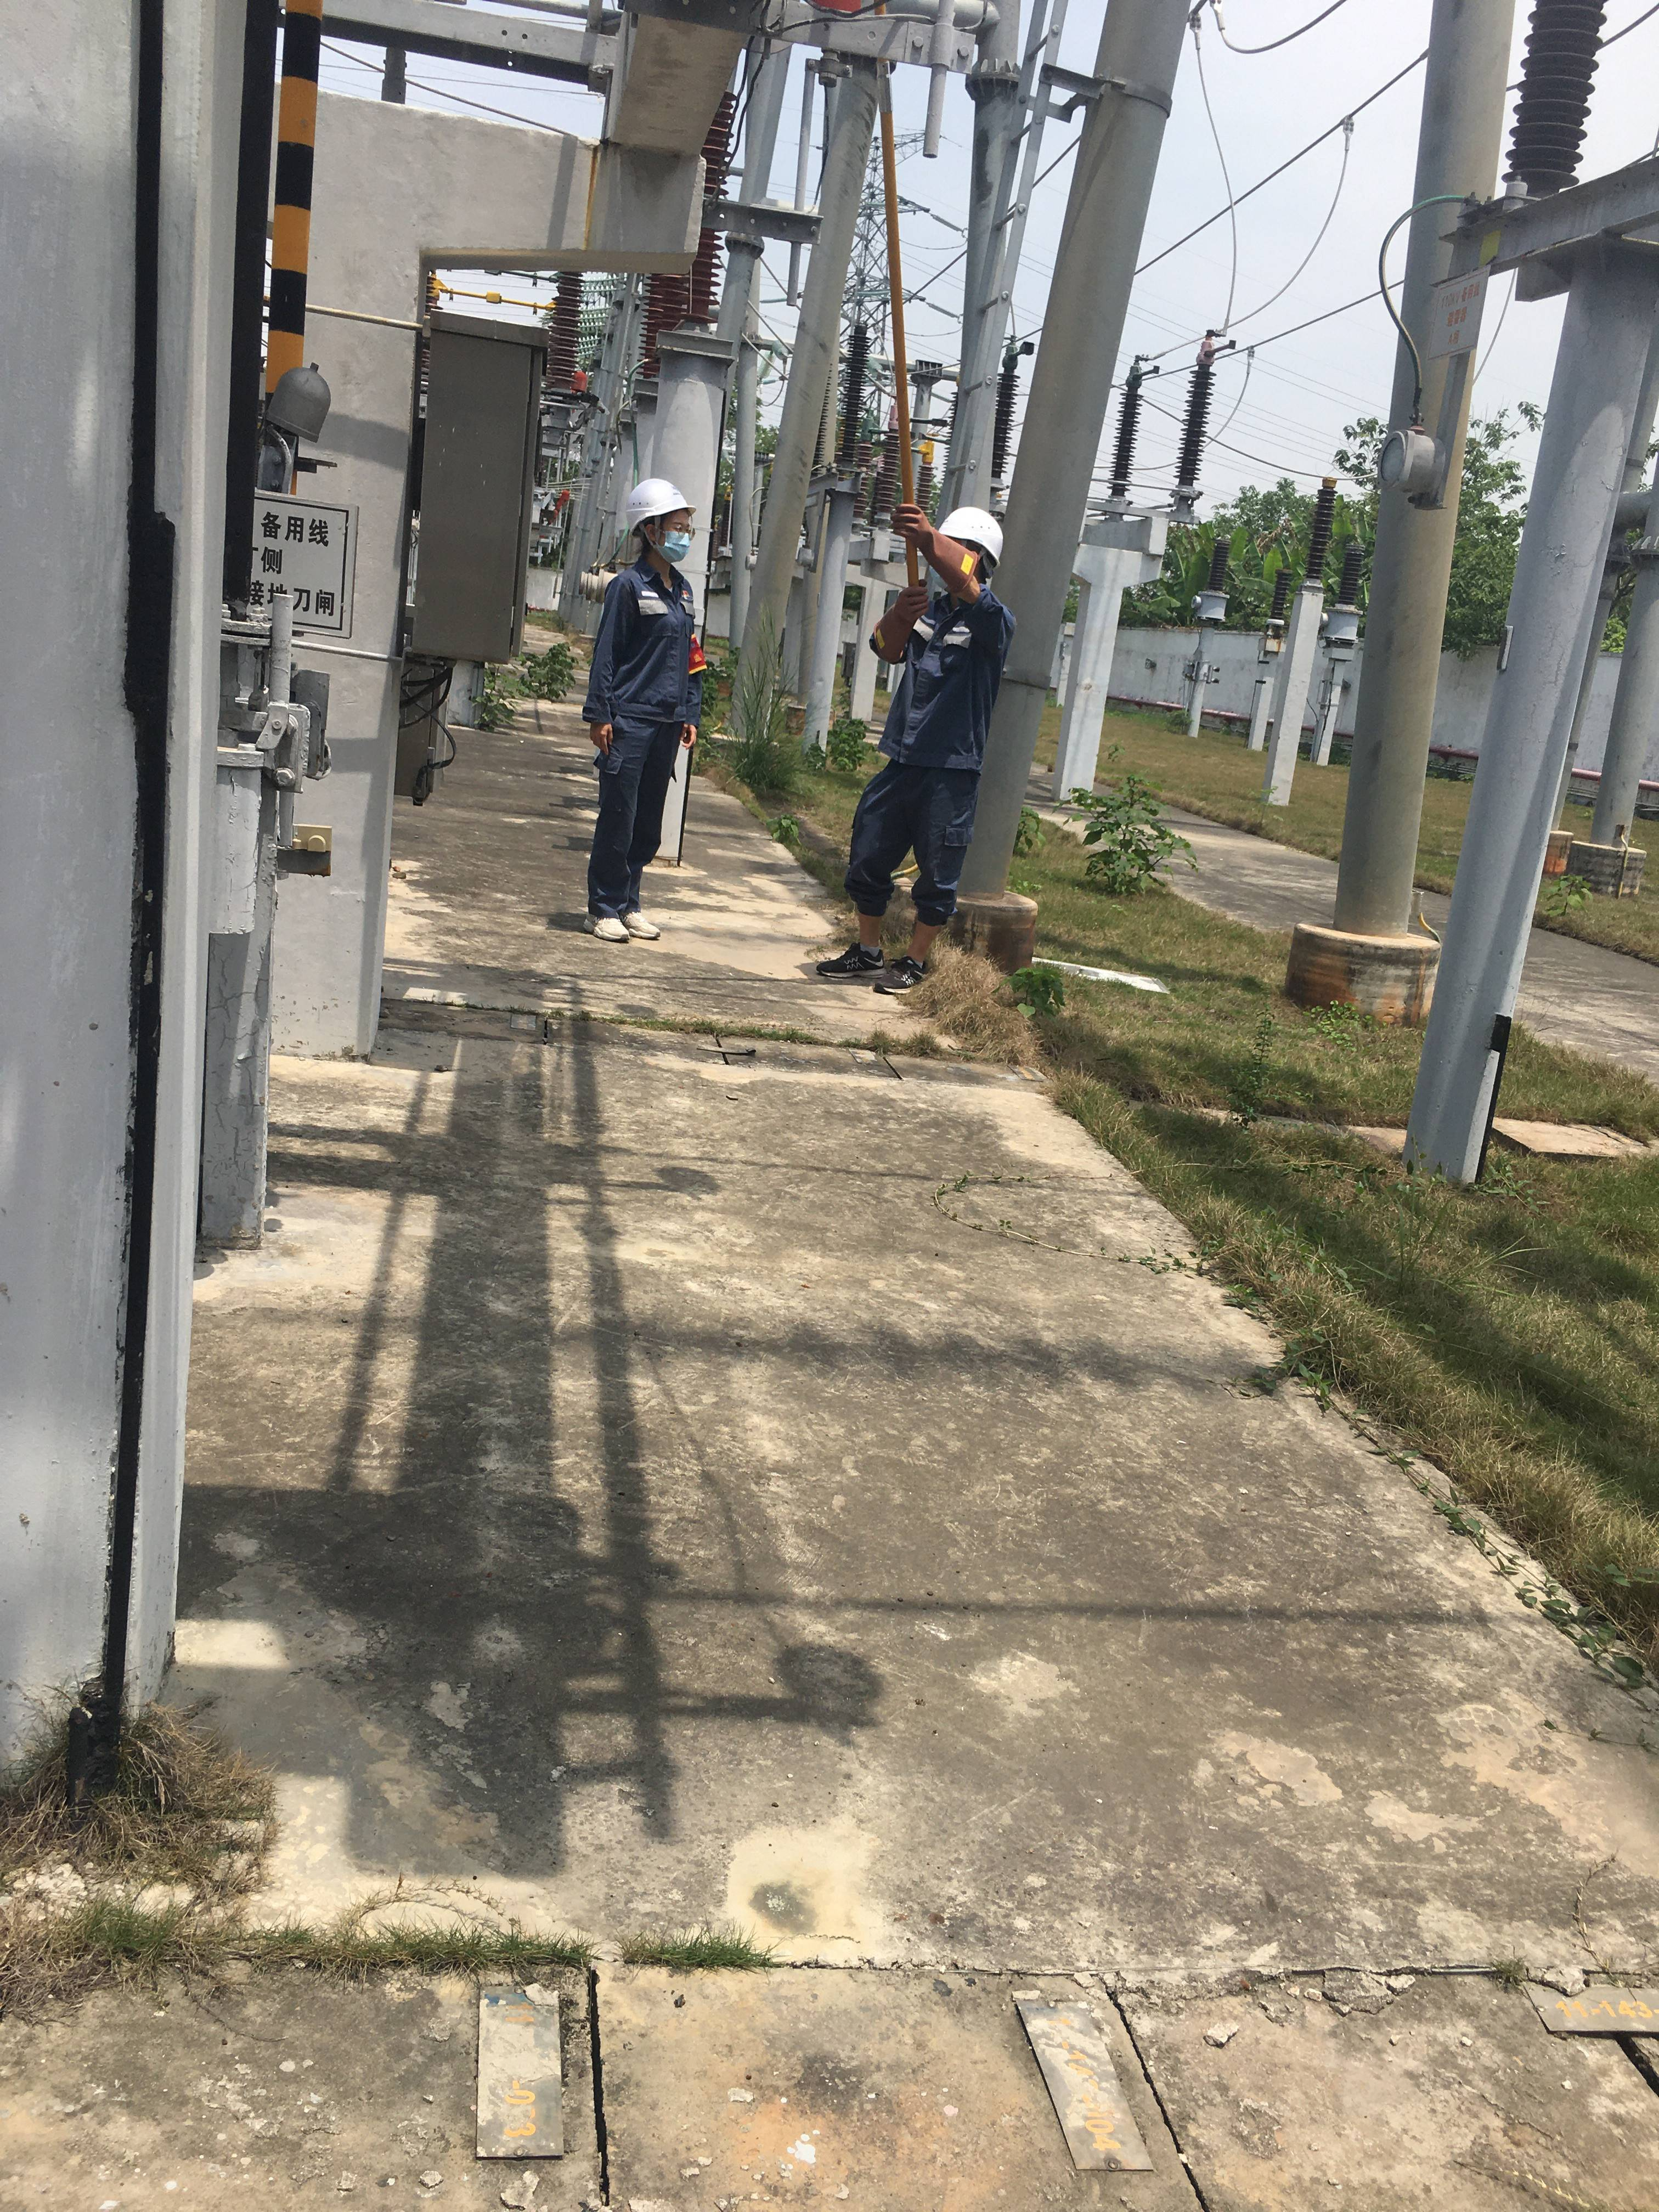downsuit: (843, 770, 976, 928), (586, 737, 685, 911)
upsuit: (882, 585, 1012, 770), (584, 559, 706, 725)
wrongbottom: (899, 888, 955, 965), (850, 878, 889, 948)
